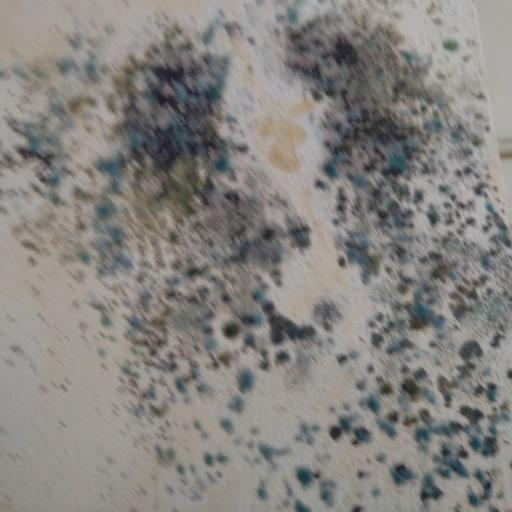algae: (57, 0, 512, 512)
